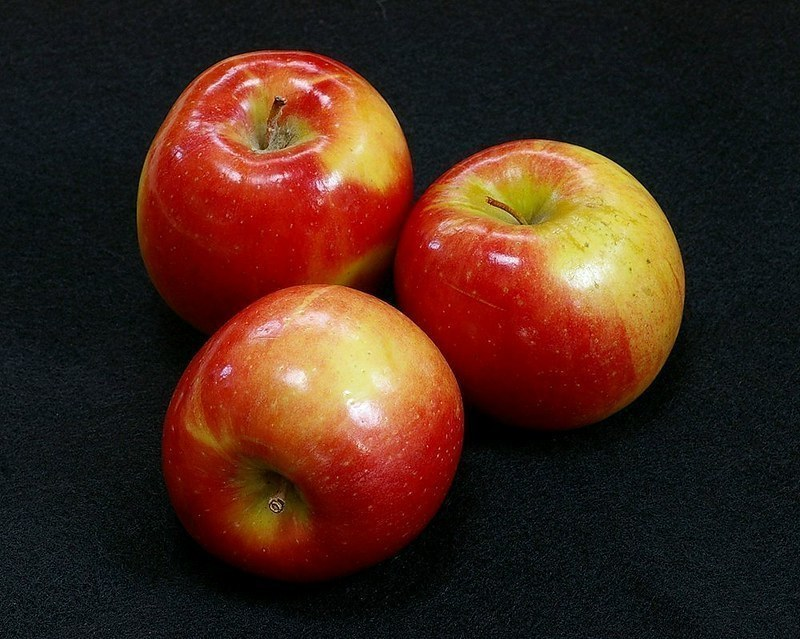apple: (165, 283, 461, 588), (409, 126, 686, 429), (132, 42, 420, 330)
